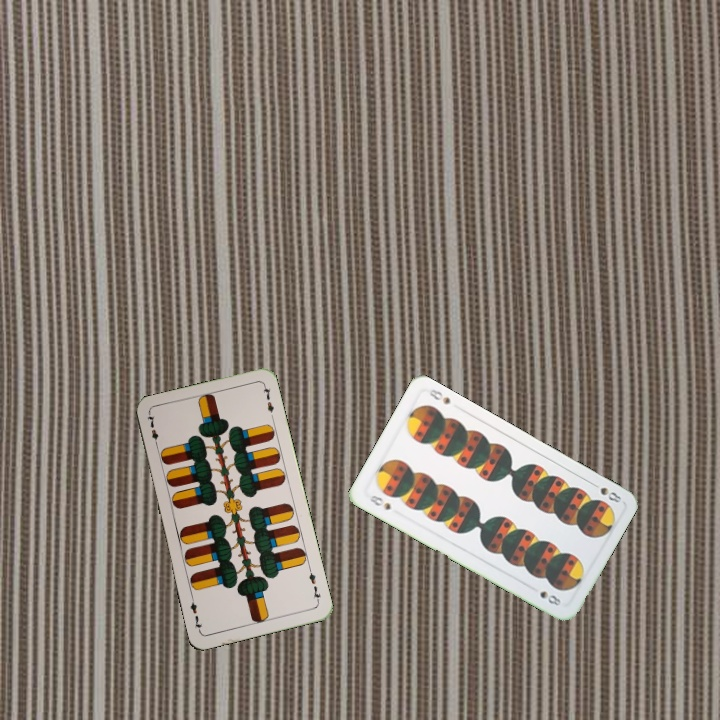E7: (305, 565, 323, 605), (144, 410, 161, 451)
S8: (586, 478, 624, 505), (363, 491, 393, 513)
